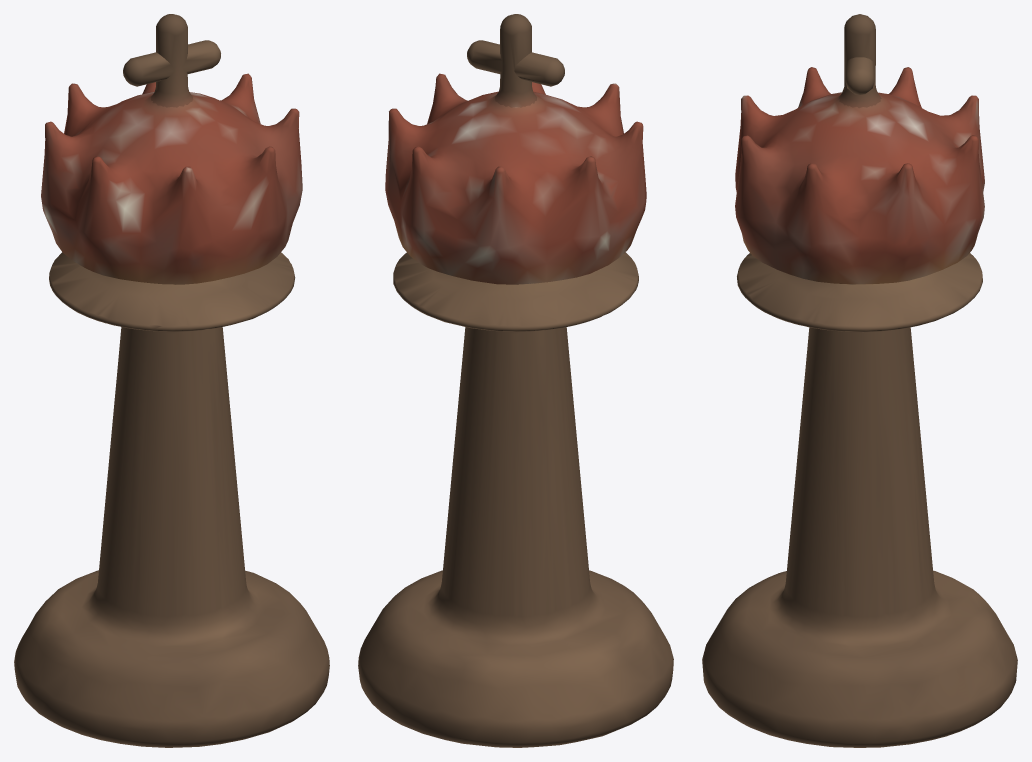
The model's file is king-dark.glb.
3 renders of one model, left to right at view 1: azimuth 30°, elevation 25°; view 2: azimuth 150°, elevation 25°; view 3: azimuth 270°, elevation 25°, orthographic.
Visible parts, largest first — view 1: body; view 2: body; view 3: body.
Part boxes in pixels (x1,y1,x2,y2): body: (14, 14, 329, 747); body: (358, 14, 673, 747); body: (702, 14, 1017, 747).
Size of the model in its own units: 2.39 by 5.63 by 2.39.
